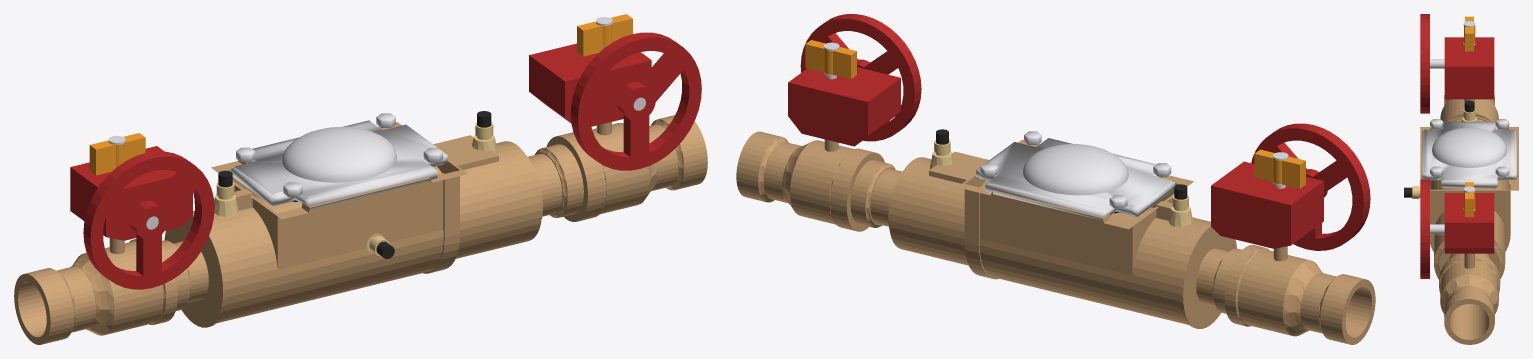
The picture shows the model from 3 angles, left to right: view 1: azimuth 30°, elevation 25°; view 2: azimuth 150°, elevation 25°; view 3: azimuth 270°, elevation 25°; orthographic projection. The views are drawn at different scales.
Visible parts, largest first — view 1: Body_main, Cover, Body_center, ShutoffValve_Inlet, Handwheel_Outlet, Handwheel_Inlet, ShutoffValve_Outlet, Gearbox_Outlet, Gearbox_Inlet, Indicator_Inlet, Indicator_Outlet, FlowArrow_plate (+3 smaller); view 2: Body_main, ShutoffValve_Inlet, Body_center, Cover, ShutoffValve_Outlet, Gearbox_Inlet, Gearbox_Outlet, Handwheel_Inlet, Handwheel_Outlet, Indicator_Inlet, Indicator_Outlet, FlowArrow_plate (+3 smaller); view 3: Cover, ShutoffValve_Outlet, Gearbox_Inlet, Gearbox_Outlet, Body_main, Body_center, Handwheel_Inlet, Handwheel_Outlet, ShutoffValve_Inlet, CoverBolts, Indicator_Inlet, Indicator_Outlet (+5 smaller).
Part boxes in pixels (box(x1,y1,x2,y2)): Body_main: box(164, 141, 562, 327); Cover: box(231, 120, 447, 210); Body_center: box(211, 122, 467, 273); ShutoffValve_Inlet: box(14, 239, 190, 344); Handwheel_Outlet: box(570, 32, 701, 170); Handwheel_Inlet: box(83, 151, 214, 289); ShutoffValve_Outlet: box(535, 115, 707, 221); Gearbox_Outlet: box(529, 43, 651, 126); Gearbox_Inlet: box(70, 146, 192, 240); Indicator_Inlet: box(89, 133, 145, 175); Indicator_Outlet: box(577, 14, 632, 56); FlowArrow_plate: box(433, 135, 498, 169); Body_main: box(870, 157, 1236, 328); ShutoffValve_Inlet: box(1212, 245, 1375, 344); Body_center: box(957, 139, 1193, 279); Cover: box(976, 138, 1175, 220); ShutoffValve_Outlet: box(736, 131, 895, 231); Gearbox_Inlet: box(1211, 161, 1323, 248); Gearbox_Outlet: box(788, 67, 900, 146); Handwheel_Inlet: box(1251, 123, 1370, 250); Handwheel_Outlet: box(800, 14, 921, 141); Indicator_Inlet: box(1254, 149, 1305, 188); Indicator_Outlet: box(805, 40, 856, 78); FlowArrow_plate: box(929, 151, 988, 183); Cover: box(1422, 121, 1516, 188); ShutoffValve_Outlet: box(1439, 253, 1500, 344); Gearbox_Inlet: box(1444, 37, 1494, 99); Gearbox_Outlet: box(1444, 193, 1494, 253); Body_main: box(1430, 116, 1509, 279); Body_center: box(1420, 127, 1518, 251); Handwheel_Inlet: box(1420, 14, 1429, 113); Handwheel_Outlet: box(1420, 179, 1429, 278); ShutoffValve_Inlet: box(1440, 95, 1498, 121); CoverBolts: box(1430, 119, 1509, 176); Indicator_Inlet: box(1464, 16, 1475, 51); Indicator_Outlet: box(1464, 182, 1475, 216).
Bounding box in the file's own units: 0.3366 × 0.1028 × 0.0732.
